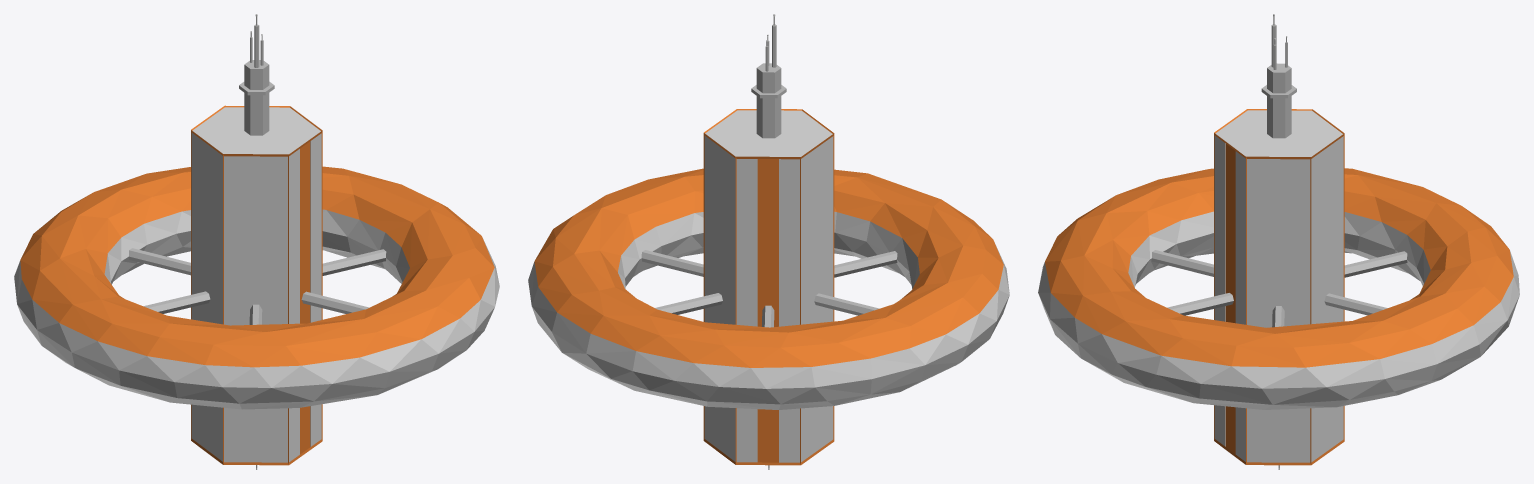
3 views of the same model, side by side, from view 1: azimuth 30°, elevation 25°; view 2: azimuth 150°, elevation 25°; view 3: azimuth 270°, elevation 25° (orthographic).
Visible parts, largest first — view 1: Torus, Cylinder, Cylinder.004, Cylinder.005, Cylinder.002, Cylinder.003; view 2: Torus, Cylinder, Cylinder.004, Cylinder.005, Cylinder.001, Cylinder.002; view 3: Torus, Cylinder, Cylinder.004, Cylinder.005, Cylinder.003, Cylinder.001.
Boxes of the visible parts, x1,y1,x2,y2 form: Torus: [14, 166, 499, 409]; Cylinder: [191, 107, 321, 462]; Cylinder.004: [191, 105, 322, 465]; Cylinder.005: [239, 60, 274, 135]; Cylinder.002: [143, 249, 386, 313]; Cylinder.003: [129, 248, 369, 313]; Torus: [528, 168, 1009, 409]; Cylinder: [704, 110, 833, 462]; Cylinder.004: [703, 109, 834, 465]; Cylinder.005: [751, 63, 786, 138]; Cylinder.001: [655, 251, 897, 314]; Cylinder.002: [641, 250, 879, 315]; Torus: [1038, 168, 1519, 409]; Cylinder: [1214, 110, 1343, 462]; Cylinder.004: [1214, 109, 1344, 465]; Cylinder.005: [1261, 63, 1296, 138]; Cylinder.003: [1167, 251, 1407, 315]; Cylinder.001: [1152, 250, 1387, 315].
Bounding box in the file's own units: 250 × 260 × 250.
